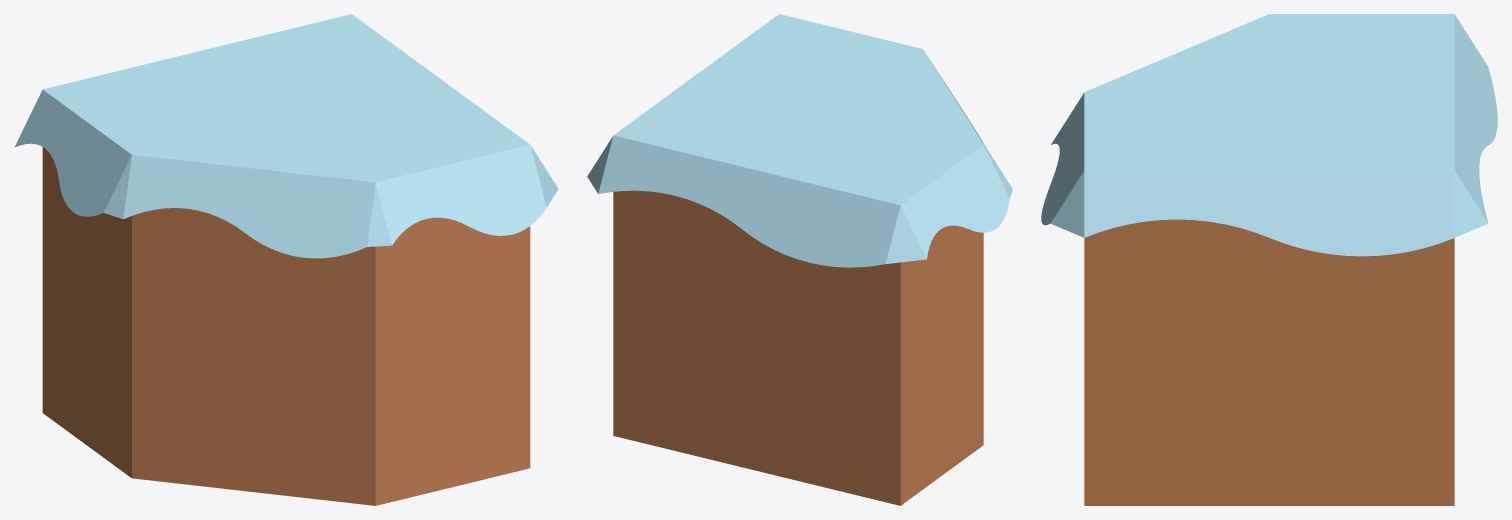
The model's file is blockSnowCornerSmall.obj.
The picture shows the model from 3 angles, left to right: view 1: azimuth 30°, elevation 25°; view 2: azimuth 150°, elevation 25°; view 3: azimuth 270°, elevation 25°; orthographic projection. The views are drawn at different scales.
Parts seen in each view (by area): view 1: blockSnowCornerSmall; view 2: blockSnowCornerSmall; view 3: blockSnowCornerSmall.
Boxes of the visible parts, left/top/right/bottom form: blockSnowCornerSmall: left=14, top=14, right=558, bottom=505; blockSnowCornerSmall: left=587, top=14, right=1012, bottom=505; blockSnowCornerSmall: left=1041, top=14, right=1497, bottom=505.
Size of the model in its own units: 1.23 by 1 by 1.23.
